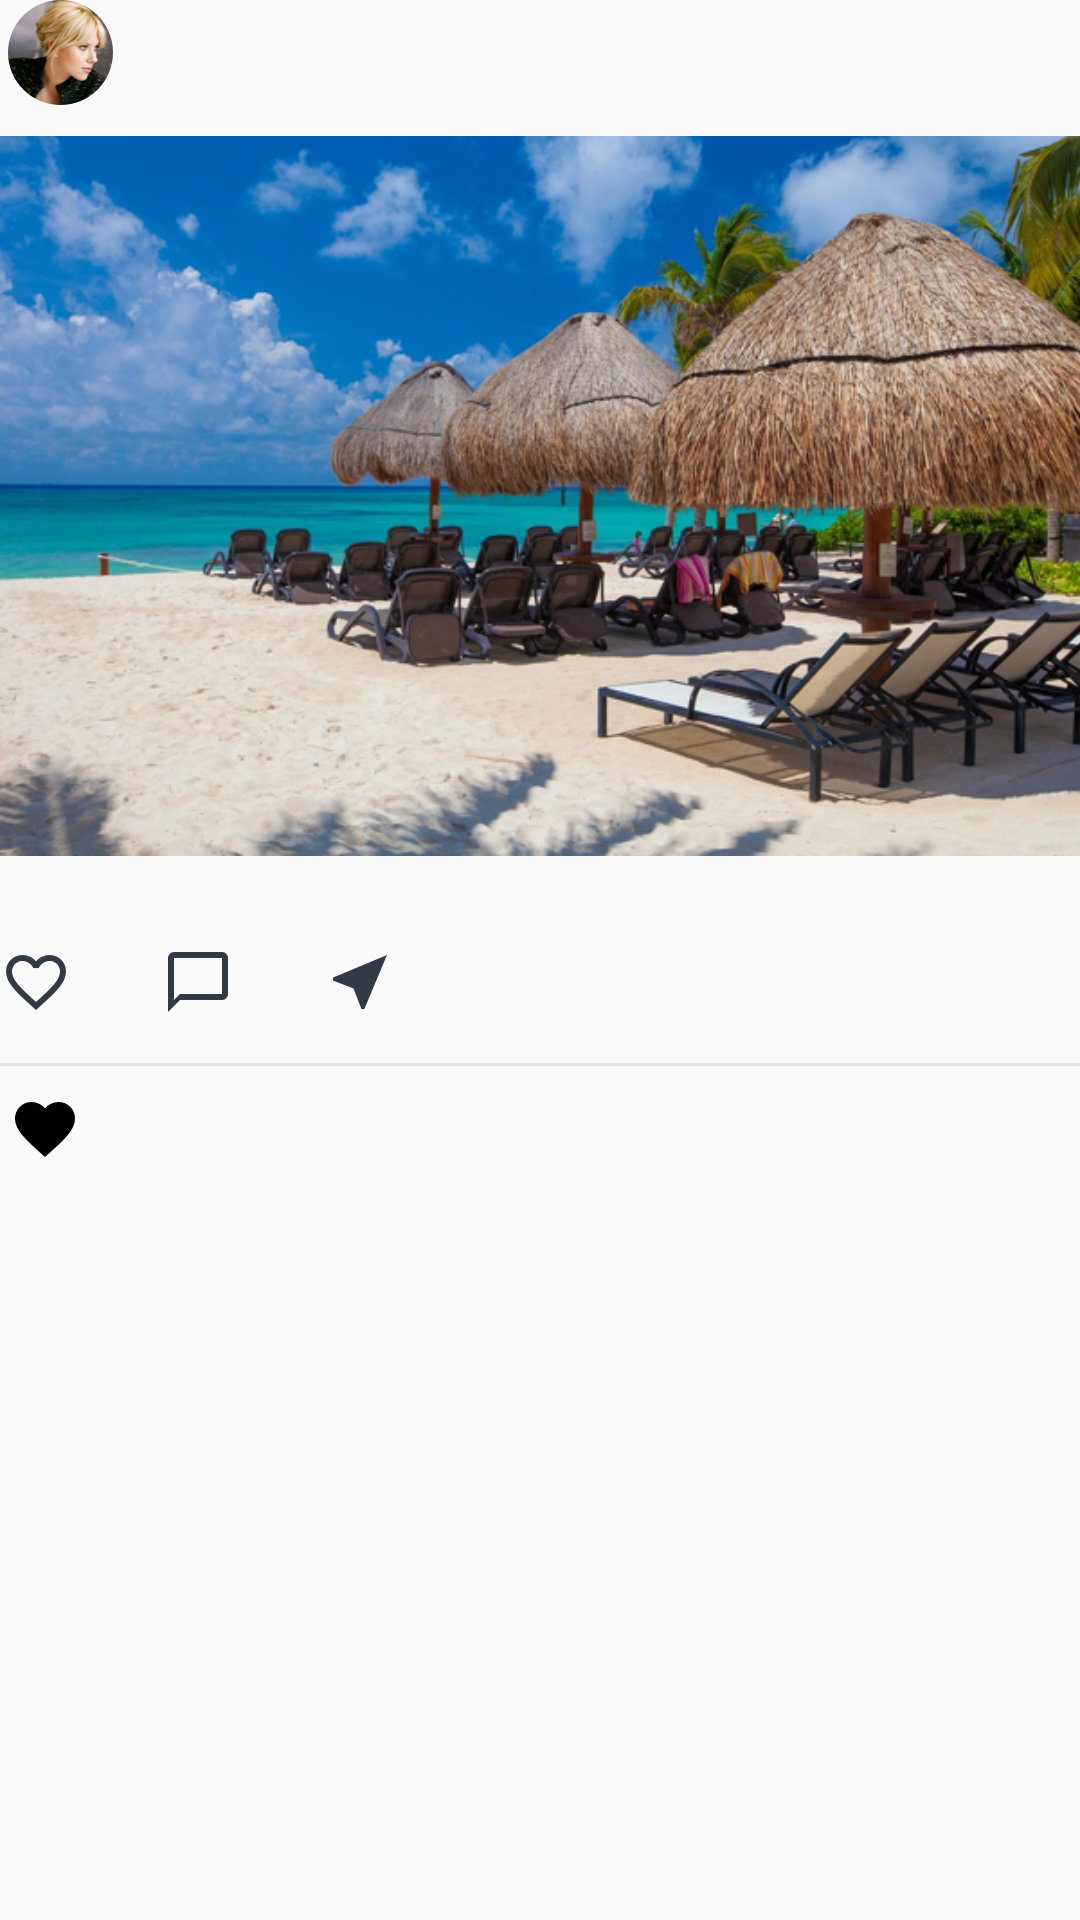

Icon bounding boxes for this 1080*1920 phone screenshot, format (x1, y1, x2, y2):
chat bubble: (168, 952, 228, 1012)
favorite border: (6, 955, 66, 1010)
like: (15, 1102, 75, 1157)
near me: (333, 955, 387, 1009)
profile: (8, 0, 113, 105)
